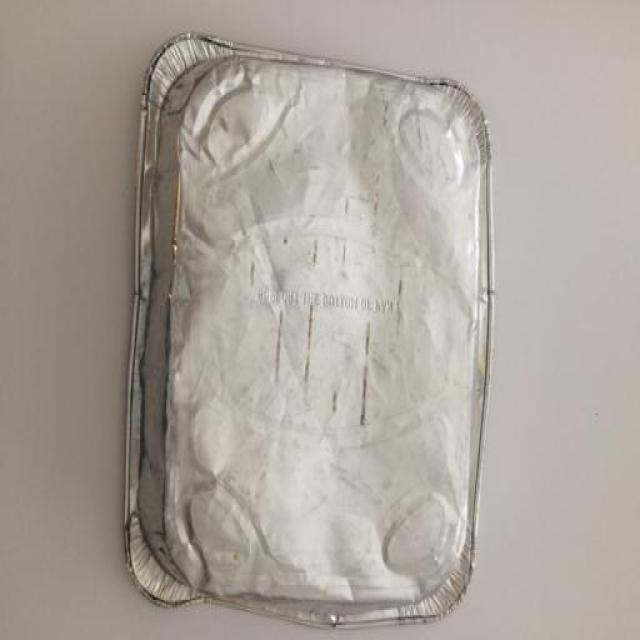Metal: (124, 30, 496, 628)
